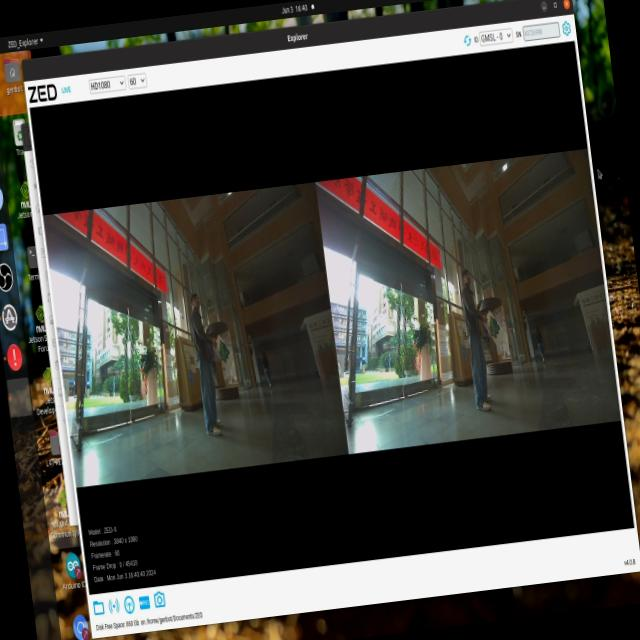green: (483, 311, 504, 347), (213, 332, 233, 368)
